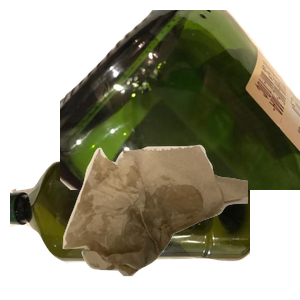glass: (60, 10, 300, 190)
metal: (61, 54, 225, 202)
plastic: (10, 149, 250, 300)
trash: (60, 142, 300, 300)
